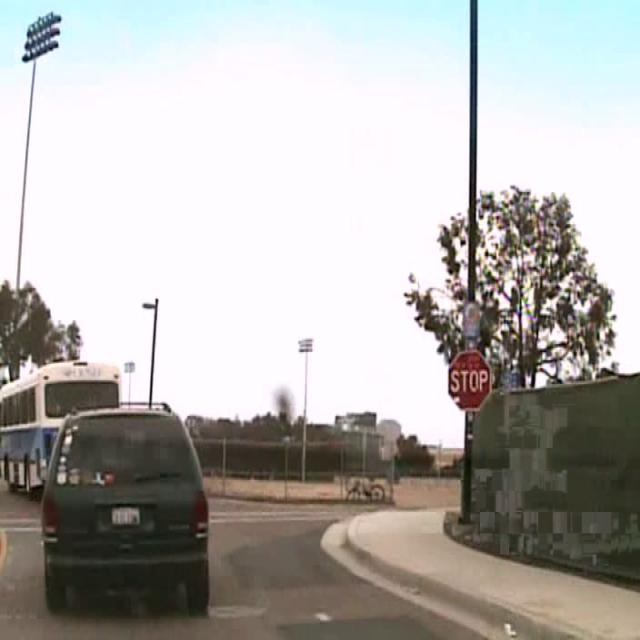stop: (447, 348, 491, 411)
